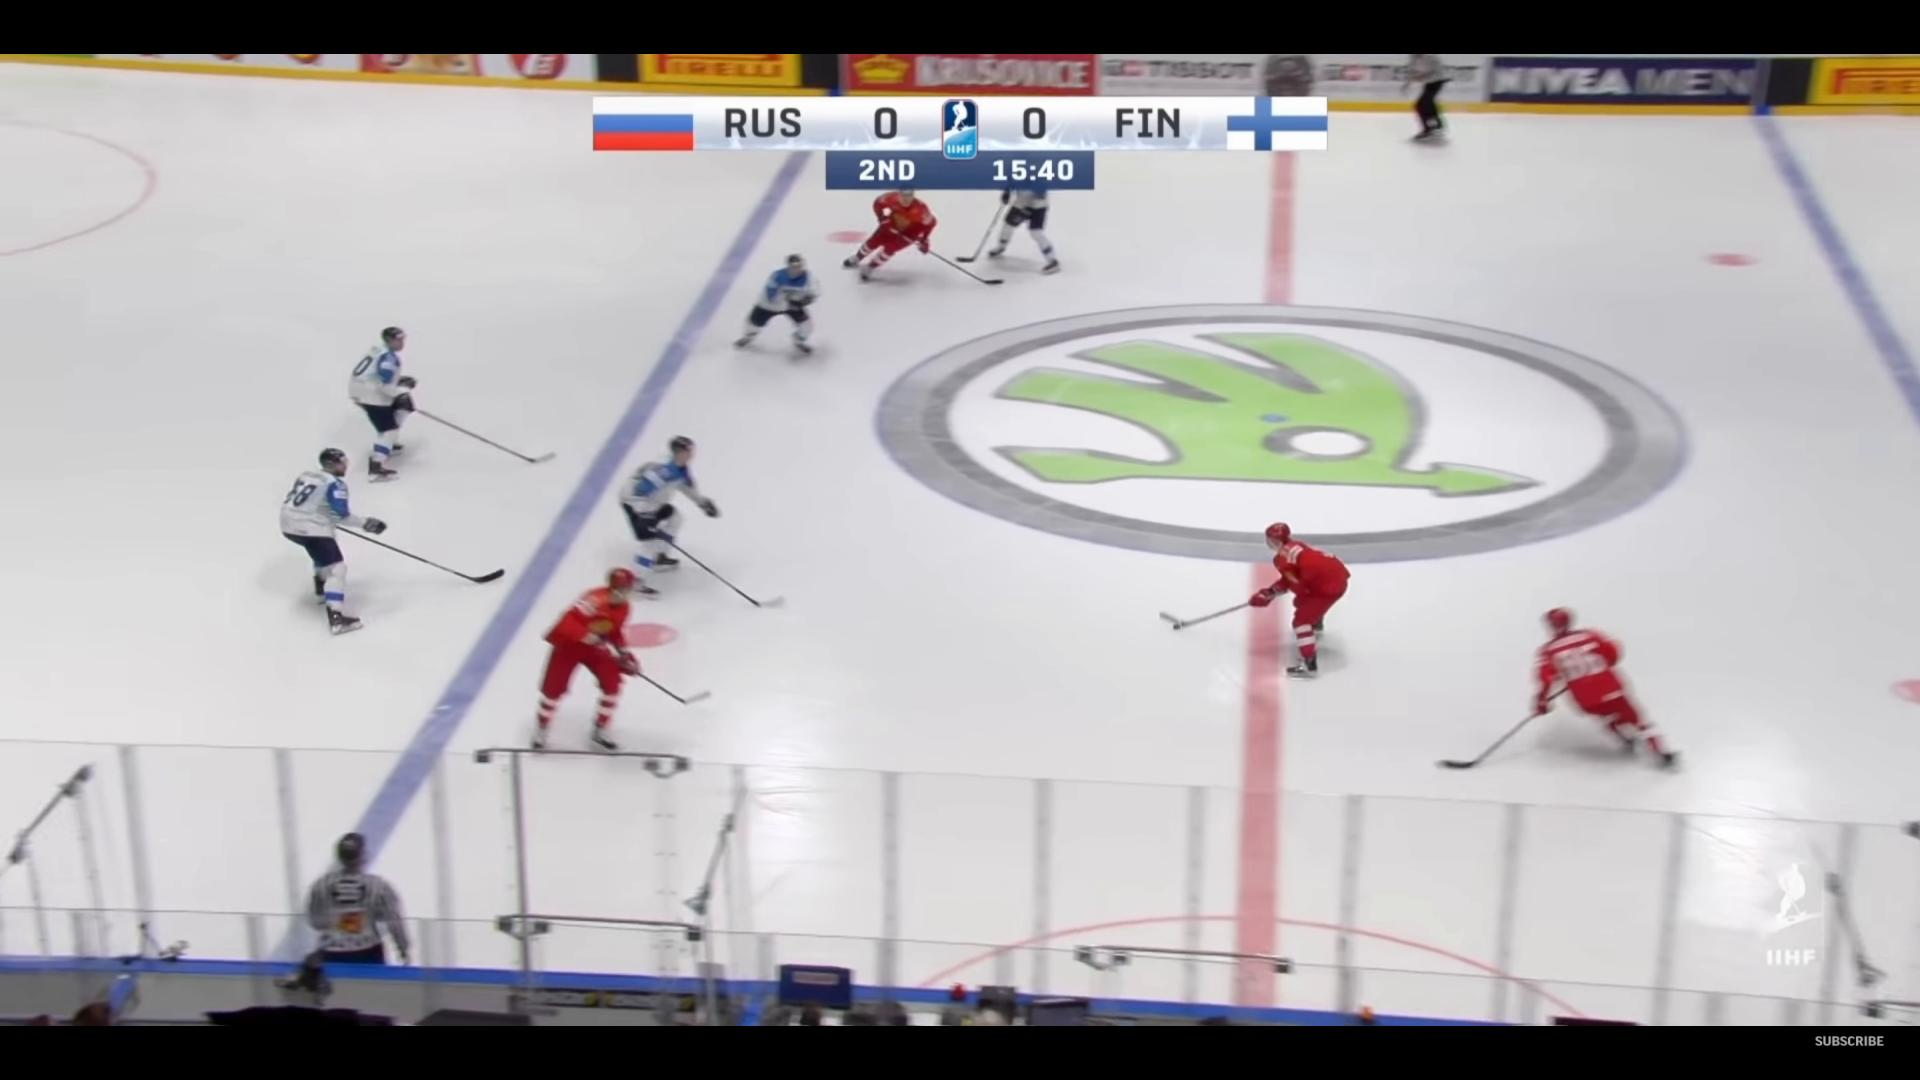puck: (1172, 624, 1180, 629)
